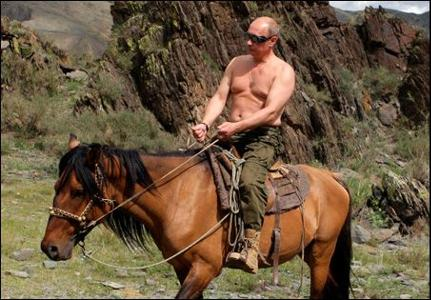person: (192, 16, 296, 275)
